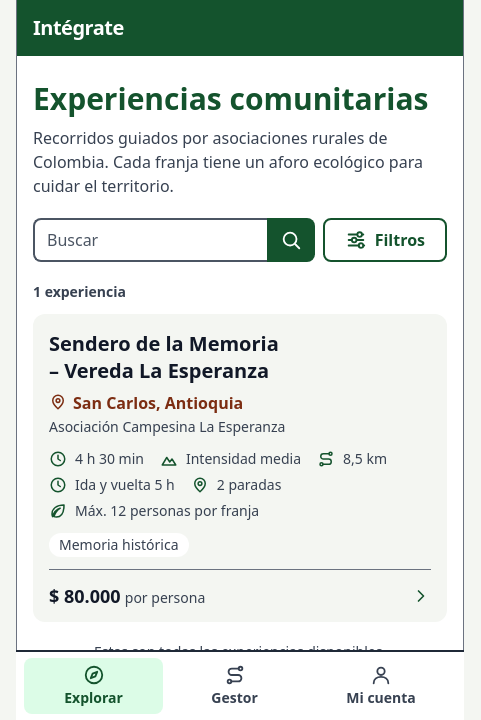
Test: routes › muestra el panel del gestor solo con ROLE_LINK_MANAGER
This screenshot has width=481, height=720.
What coordinates should you click on to do the following:
click the link "Gestor"
I would click on:
 (235, 686)
Its box is 211,664 -> 258,707.
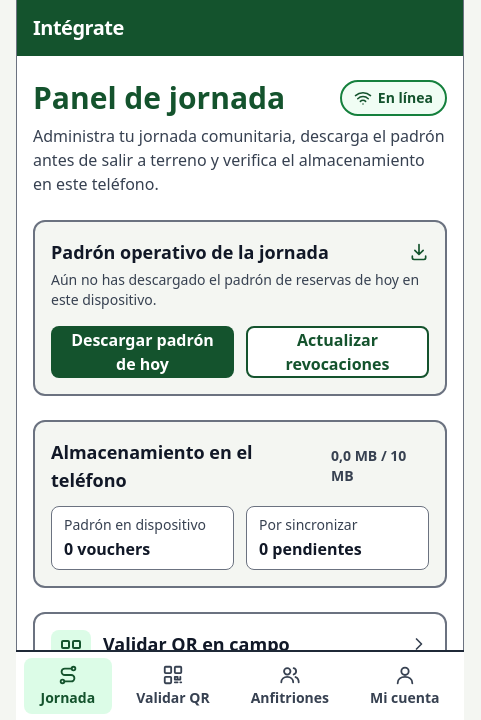
Check: the heading "Panel de jornada" is shown, box 33,80 -> 285,116
Check: the navigation bar named "Navegación del gestor" is shown, box 16,650 -> 464,719
